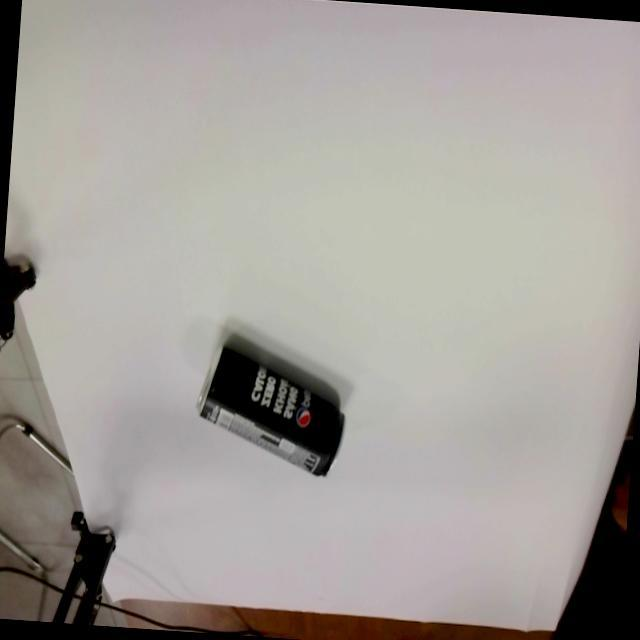debris: (190, 344, 350, 479)
